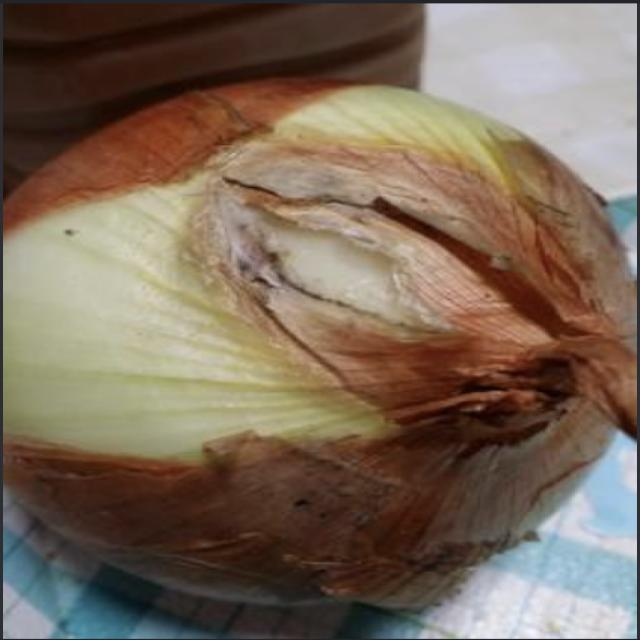mechanical_damage: (5, 79, 635, 607)
